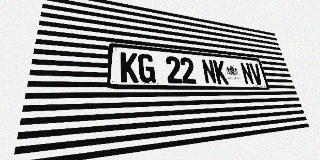2: (165, 56, 183, 84), (179, 57, 196, 84)
G: (138, 53, 156, 83)
K: (120, 52, 139, 83), (213, 60, 229, 84)
N: (201, 59, 217, 84), (239, 62, 255, 85)
V: (249, 63, 264, 85)
